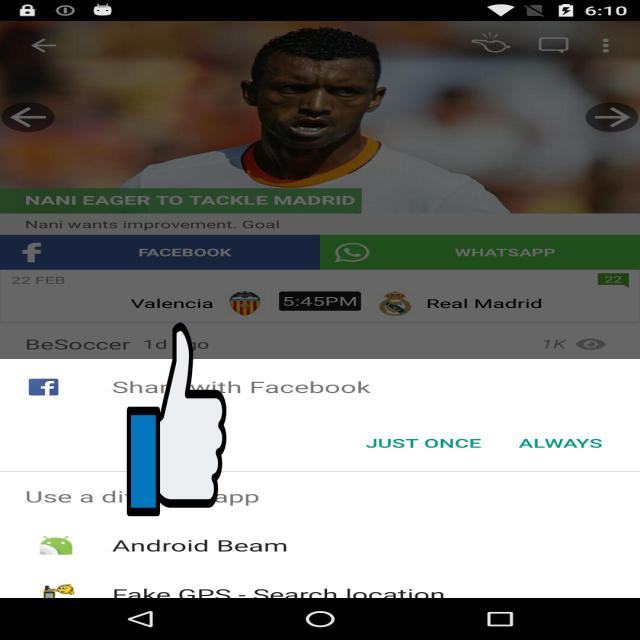privacy zuckering: (127, 318, 226, 520)
